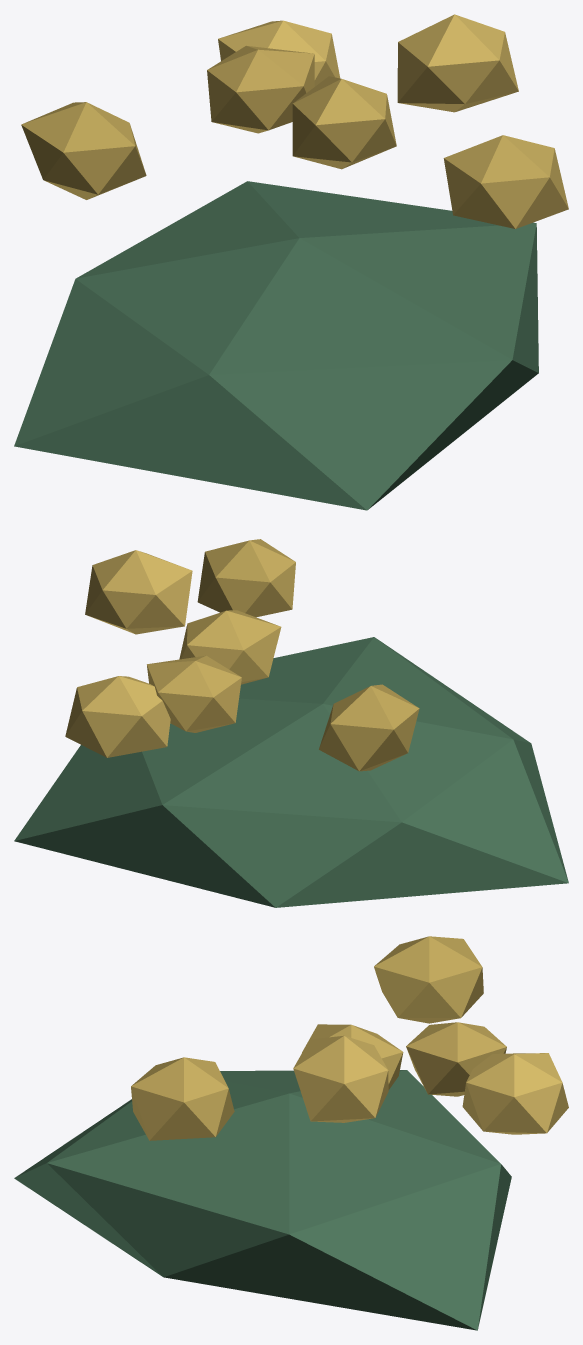
File: sunbloom_patch.glb
The picture shows the model from 3 angles, top to bottom: view 1: azimuth 30°, elevation 25°; view 2: azimuth 150°, elevation 25°; view 3: azimuth 270°, elevation 25°; orthographic projection. The views are drawn at different scales.
Visible parts, largest first — view 1: sunbloom_patch; view 2: sunbloom_patch; view 3: sunbloom_patch.
Part boxes in pixels (<box>): sunbloom_patch: <box>14,14,568,510</box>; sunbloom_patch: <box>14,539,568,907</box>; sunbloom_patch: <box>14,936,568,1330</box>.
Size of the model in its own units: 0.8669 by 0.5465 by 0.8707.
Materials: 1 (1 with a texture image).
